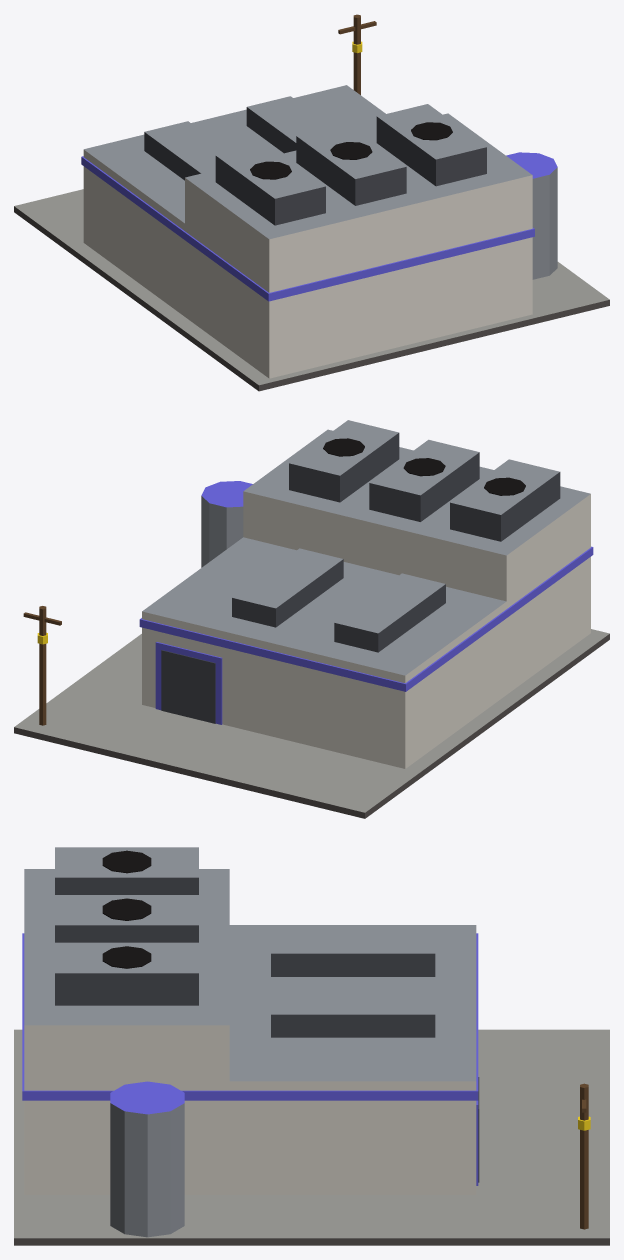
Rendered from semiconductor_fab.glb.
3 renders of one model, top to bottom at view 1: azimuth 30°, elevation 25°; view 2: azimuth 150°, elevation 25°; view 3: azimuth 270°, elevation 25°, orthographic. The views are drawn at different scales.
Visible parts, largest first — view 1: semiconductor_fab; view 2: semiconductor_fab; view 3: semiconductor_fab.
Part boxes in pixels (x1,y1,x2,y2): semiconductor_fab: (14,14,609,391); semiconductor_fab: (14,420,609,818); semiconductor_fab: (14,847,609,1245).
Size of the model in its own units: 4.8 by 2.26 by 5.8.
